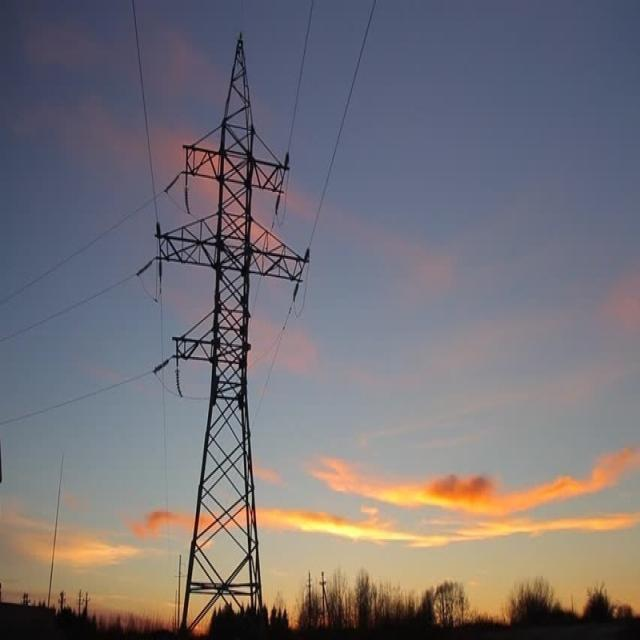non-critical vegetation: (150, 48, 296, 628)
